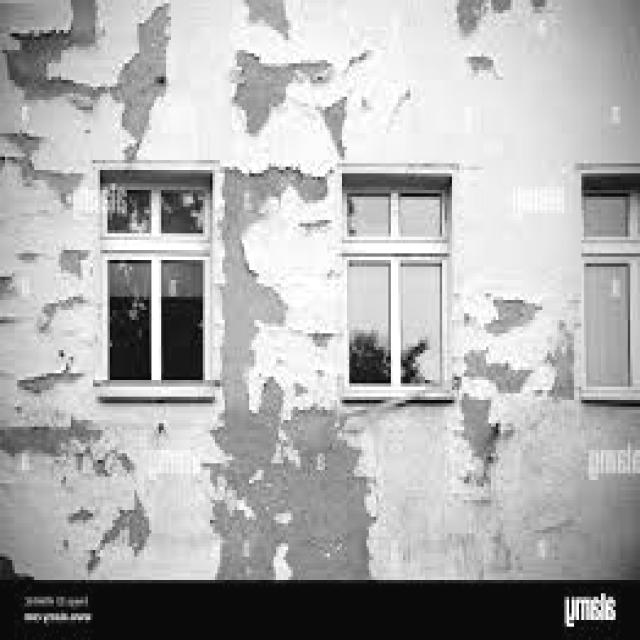peeling paint: (1, 0, 599, 582)
